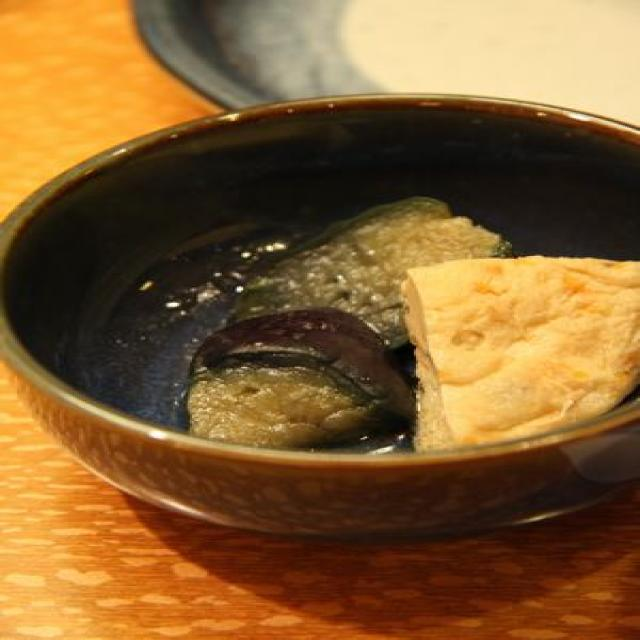熟制海鲜: (164, 192, 640, 471)
